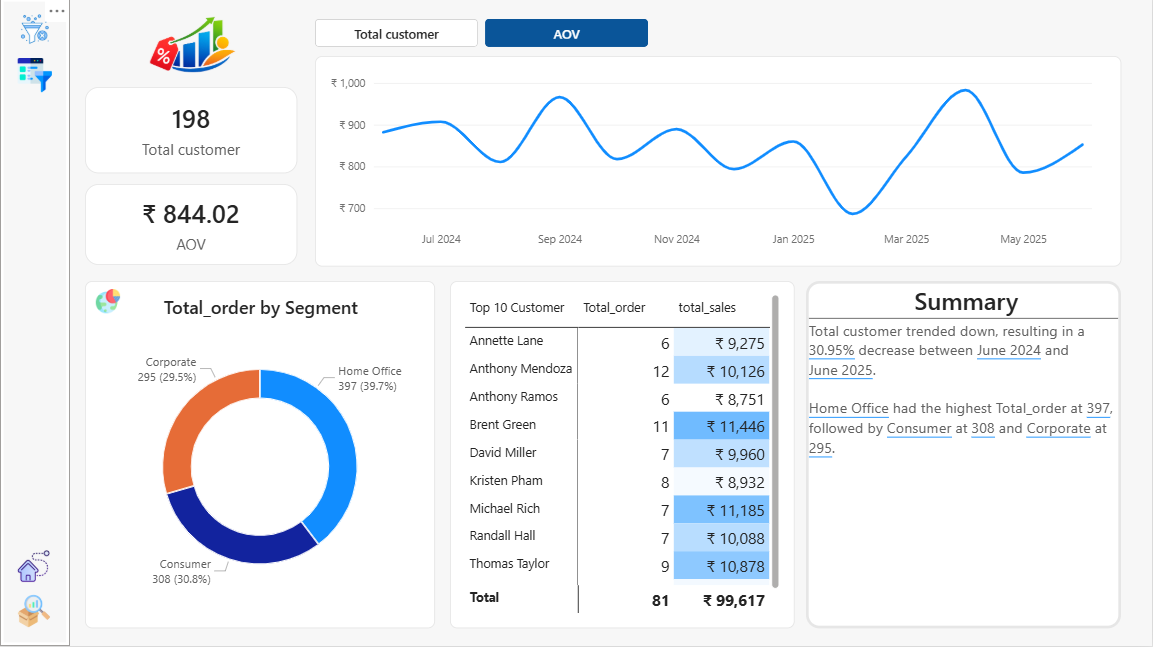

The dashboard page shown, as its layout file describes it:
{"tool":"powerbi","page":{"name":"Customer","canvas":[1280,720],"ordinal":2},"visuals":[{"type":"shape","box":[0,0,77.5,720],"z":0},{"type":"image","title":"filter","box":[16.2,15,44,38],"z":1000},{"type":"image","title":"filter","box":[16,662,44,38],"z":3000},{"type":"card","title":"Total Customer","fields":{"Values":["_meeasures.Total customer"]},"box":[94.3,98.6,235.7,95.7],"z":4000},{"type":"card","title":"Total Customer","fields":{"Values":["_meeasures.AOV"]},"box":[94.3,207.1,235.7,90],"z":5000},{"type":"lineChart","fields":{"Category":["Date_Dim.Date.Variation.Date Hierarchy.Year","Date_Dim.Date.Variation.Date Hierarchy.Quarter","Date_Dim.Date.Variation.Date Hierarchy.Month","Date_Dim.Date.Variation.Date Hierarchy.Day"],"Y":["_meeasures.AOV"]},"box":[350,64.3,895.7,234.3],"z":6000},{"type":"advancedSlicerVisual","fields":{"Values":["Customer matric.Customer matric"]},"box":[350,22.9,370,31.4],"z":7000},{"type":"donutChart","fields":{"Category":["Customer_Dim.Segment"],"Y":["_meeasures.Total_order"]},"box":[94.3,314.3,388.6,385.7],"z":8000},{"type":"pivotTable","fields":{"Rows":["Customer_Dim.Full Name"],"Values":["_meeasures.Total_order","_meeasures.total_sales"]},"box":[500,314.3,382.9,385.7],"z":9000},{"type":"image","box":[104.3,322.9,31.4,27.1],"z":10000},{"type":"image","box":[112.9,17.1,200,68.6],"z":11000},{"type":"textbox","title":"Summary","box":[895.7,314.3,350,385.7],"z":12000},{"type":"image","title":"home","box":[16,612,44,38],"z":13000},{"type":"image","title":"filter","box":[16.7,66.7,43.3,37.8],"z":14000}]}

Visuals, with their boxes on the page's 1280x720 design canvas (x1, y1, x2, y2). These are canvas units, not pixel positions in the 1153x647 screenshot, which may show the page scaled, cropped or inside an application window:
shape: Rect(0, 0, 78, 720)
"filter" image: Rect(16, 15, 60, 53)
"filter" image: Rect(16, 662, 60, 700)
"Total Customer" card: Rect(94, 99, 330, 194)
"Total Customer" card: Rect(94, 207, 330, 297)
lineChart - Date_Dim.Date.Variation.Date Hierarchy.Year x Date_Dim.Date.Variation.Date Hierarchy.Quarter: Rect(350, 64, 1246, 299)
advancedSlicerVisual - Customer matric.Customer matric: Rect(350, 23, 720, 54)
donutChart - Customer_Dim.Segment x _meeasures.Total_order: Rect(94, 314, 483, 700)
pivotTable - Customer_Dim.Full Name x _meeasures.Total_order: Rect(500, 314, 883, 700)
image: Rect(104, 323, 136, 350)
image: Rect(113, 17, 313, 86)
"Summary" textbox: Rect(896, 314, 1246, 700)
"home" image: Rect(16, 612, 60, 650)
"filter" image: Rect(17, 67, 60, 104)
